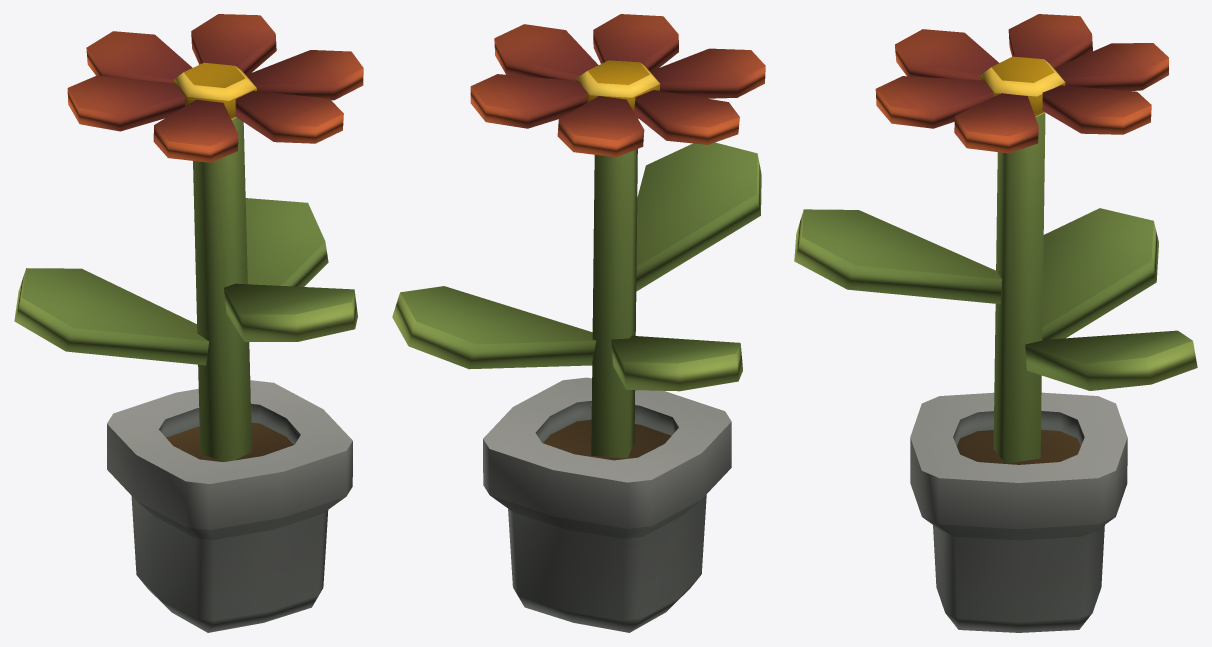
File: flower_red_pot.fbx
3 views of the same model, side by side, from view 1: azimuth 30°, elevation 25°; view 2: azimuth 150°, elevation 25°; view 3: azimuth 270°, elevation 25° (orthographic).
Parts seen in each view (by area): view 1: flower_red_pot; view 2: flower_red_pot; view 3: flower_red_pot.
Part boxes in pixels (<box>): flower_red_pot: <box>14,14,363,632</box>; flower_red_pot: <box>392,14,765,632</box>; flower_red_pot: <box>794,14,1197,632</box>.
Bounding box in the file's own units: 50.35 × 78.99 × 54.64.
